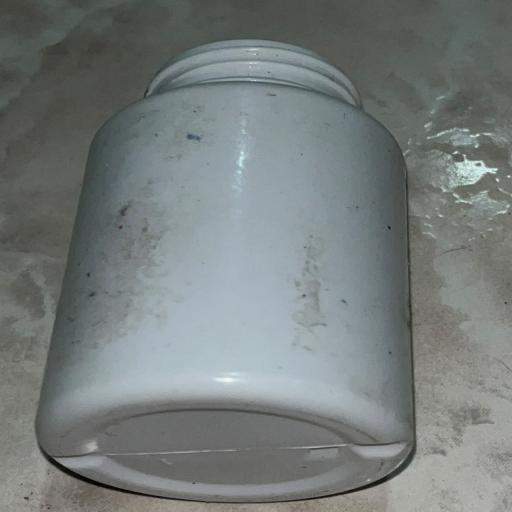HDPE: (24, 21, 470, 498)
